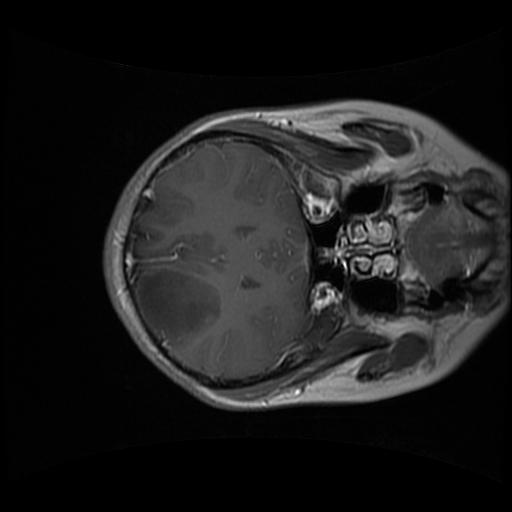glioma: (135, 263, 222, 342)
